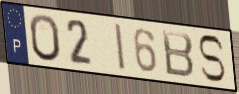2: (65, 18, 94, 68)
6: (131, 27, 159, 75)
B: (160, 28, 196, 80)
I: (113, 21, 128, 73)
O: (27, 13, 63, 64)
S: (196, 33, 227, 84)
